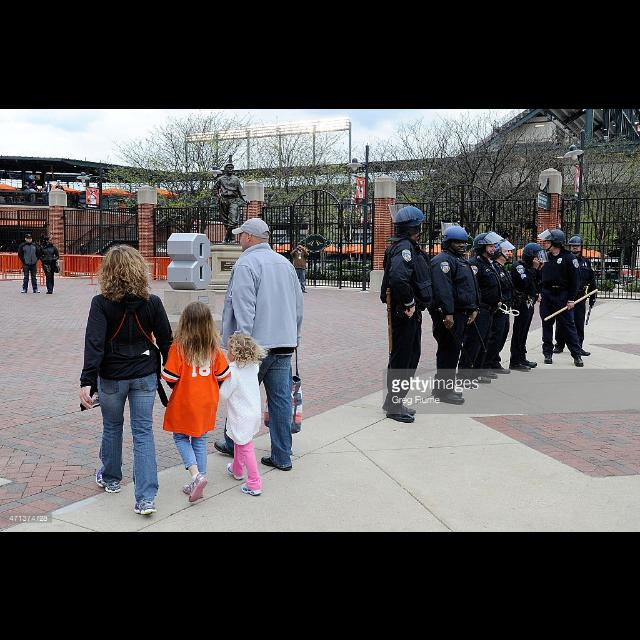head: (102, 244, 146, 294), (238, 215, 272, 252), (183, 301, 211, 335), (227, 333, 253, 362), (398, 212, 424, 240), (444, 231, 468, 255), (477, 234, 498, 258), (492, 238, 512, 262), (524, 243, 544, 264), (544, 235, 564, 253), (570, 237, 584, 255), (25, 234, 33, 242), (45, 236, 53, 244), (297, 243, 303, 251)
person: (76, 243, 184, 517), (208, 218, 306, 474), (159, 298, 237, 506), (378, 203, 436, 424), (423, 224, 481, 408), (213, 330, 271, 500), (455, 228, 505, 390), (533, 228, 587, 368), (476, 236, 518, 380), (506, 240, 550, 372), (552, 233, 598, 357), (17, 232, 41, 294), (38, 235, 62, 295), (289, 242, 309, 294)
